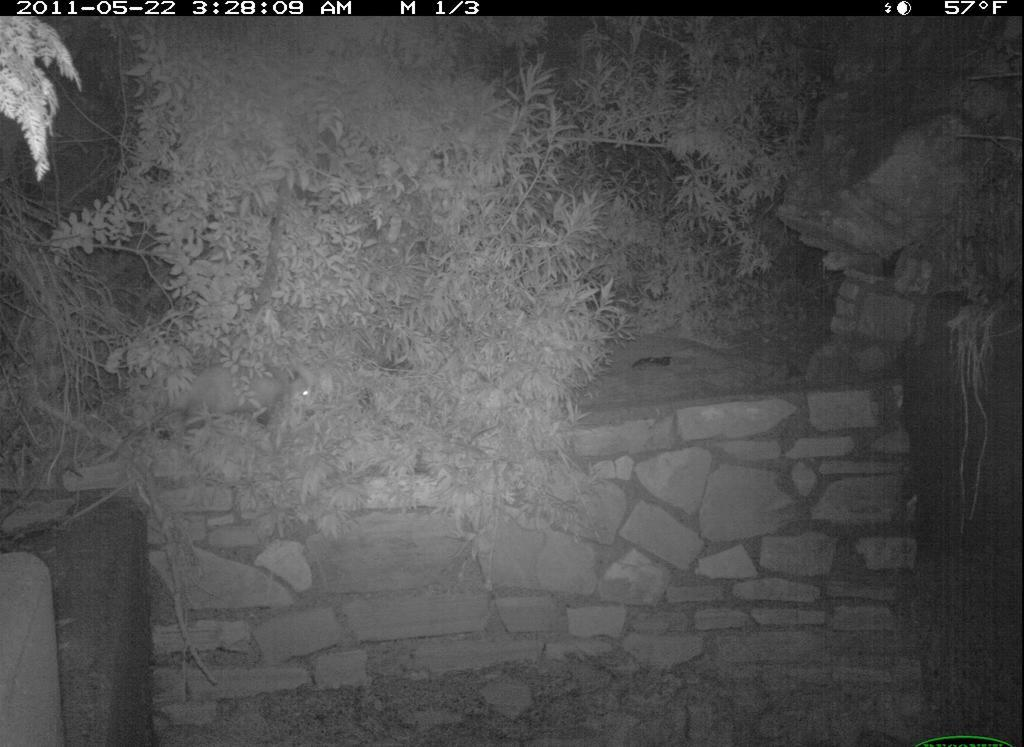opossum: (127, 369, 329, 442)
